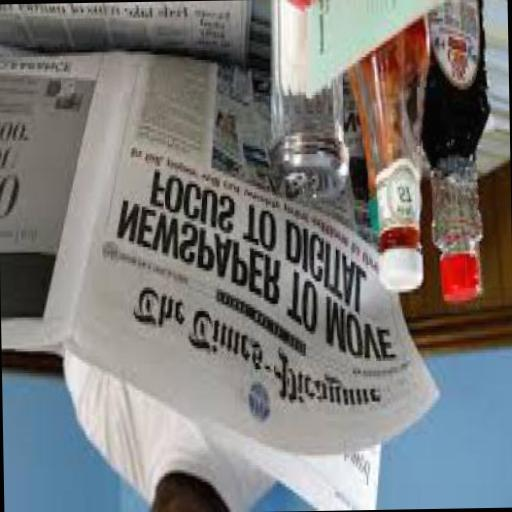paper: (64, 53, 438, 465), (0, 48, 133, 355), (195, 423, 378, 512), (0, 3, 250, 66), (284, 0, 443, 98)
